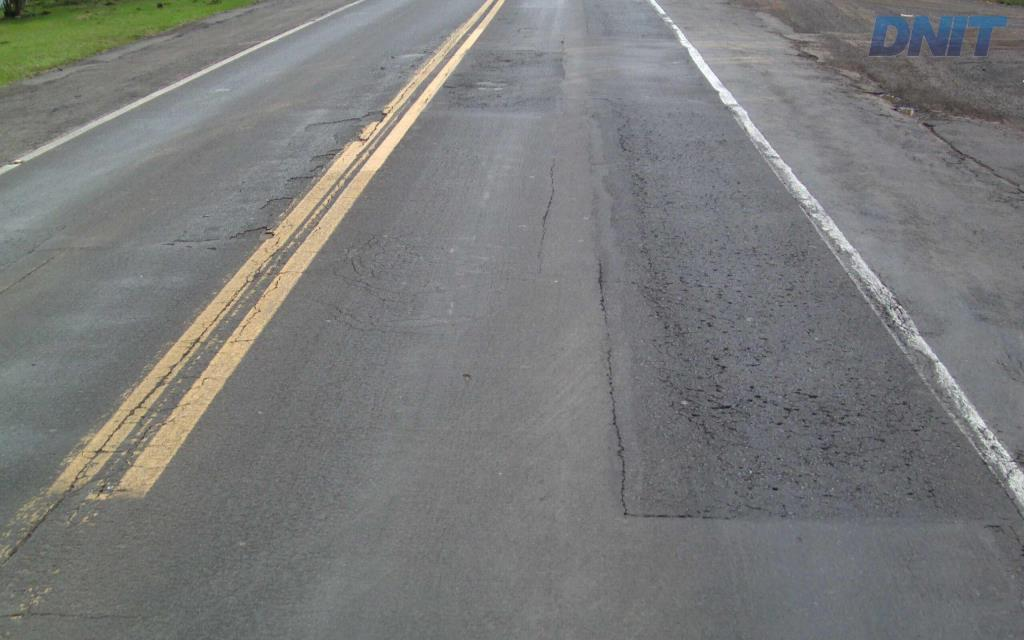crack: (791, 385, 942, 470), (676, 383, 756, 462), (606, 347, 639, 518), (640, 257, 673, 320), (803, 400, 856, 430), (887, 439, 925, 473), (904, 476, 942, 508)
